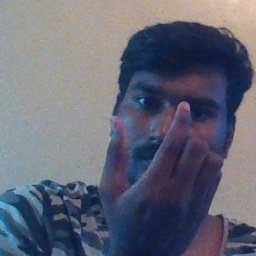U: (103, 98, 210, 237)
